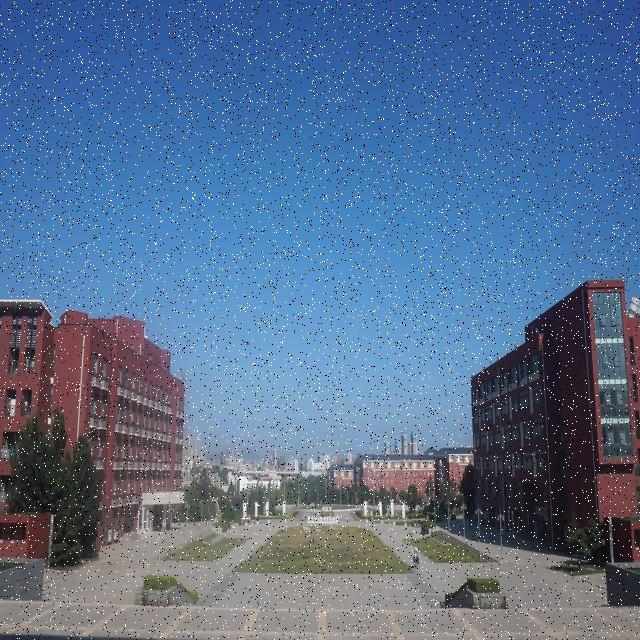UAV: (242, 340, 252, 346)
